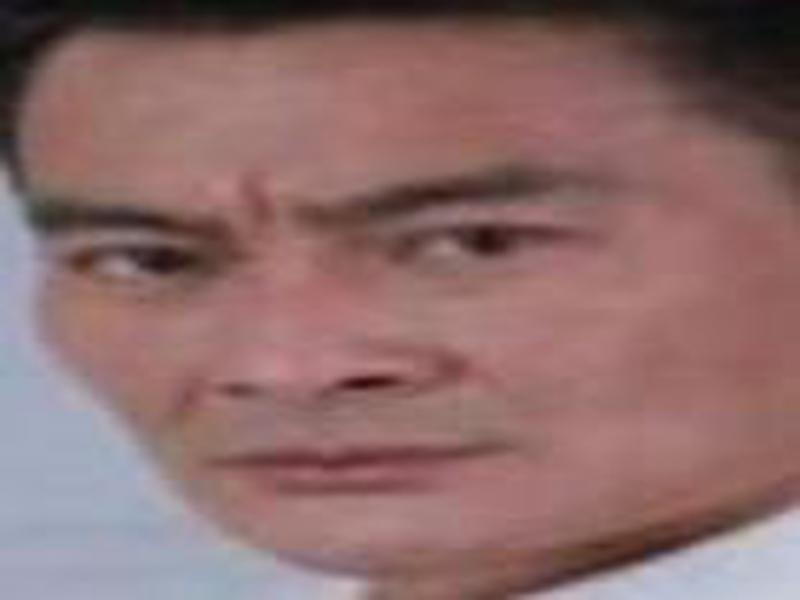without_mask: (17, 27, 785, 582)
